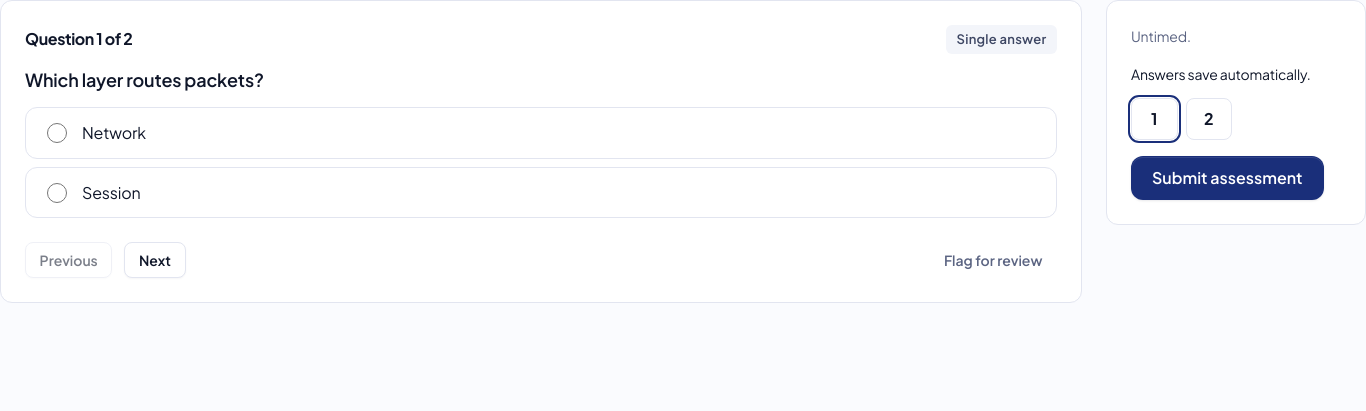
it: AttemptPlayer › uses radio for single choice and labelled checkboxes for multiple select in a fieldset
This screenshot has width=1366, height=411.
Expected: the number of radio buttons is 2, [47, 123, 67, 143]; [47, 183, 67, 203]
Click the button "Next" at (155, 260), box [124, 242, 186, 278]
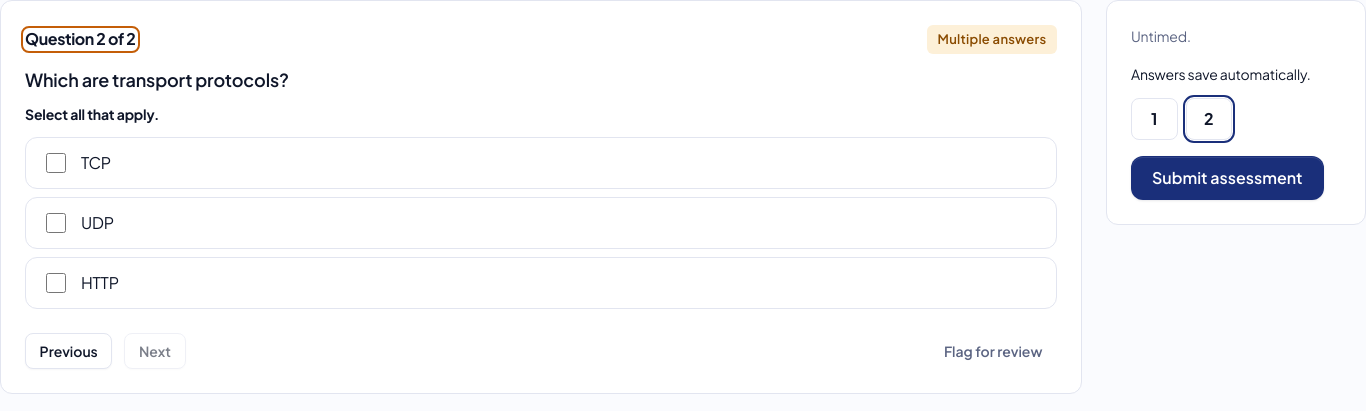
Result: the number of checkboxes is 3 at [46, 153, 66, 173]; [46, 213, 66, 233]; [46, 273, 66, 293]
Result: the text "Select all that apply." is shown at [25, 105, 159, 123]
